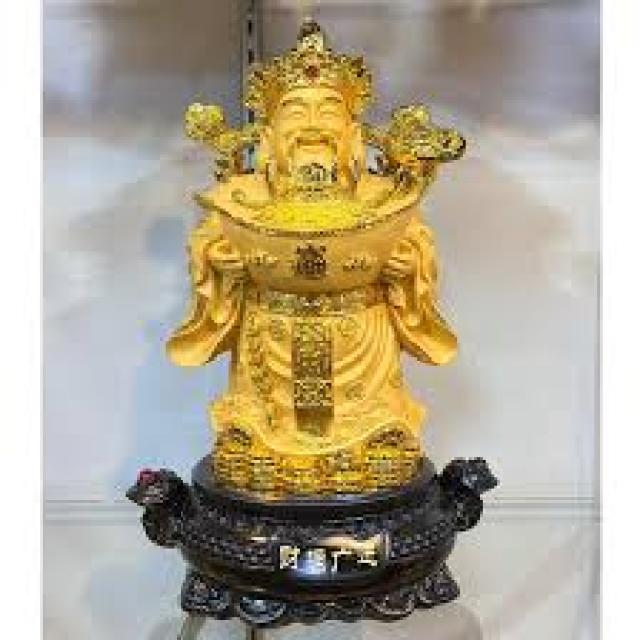Cai shen: (173, 20, 461, 473)
